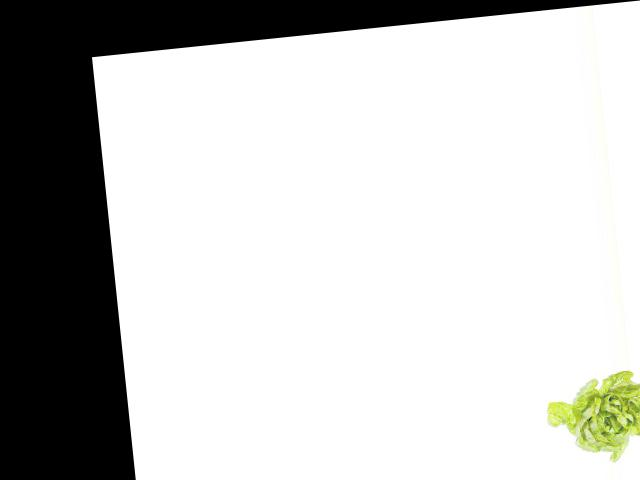lettuce: (540, 371, 640, 469)
